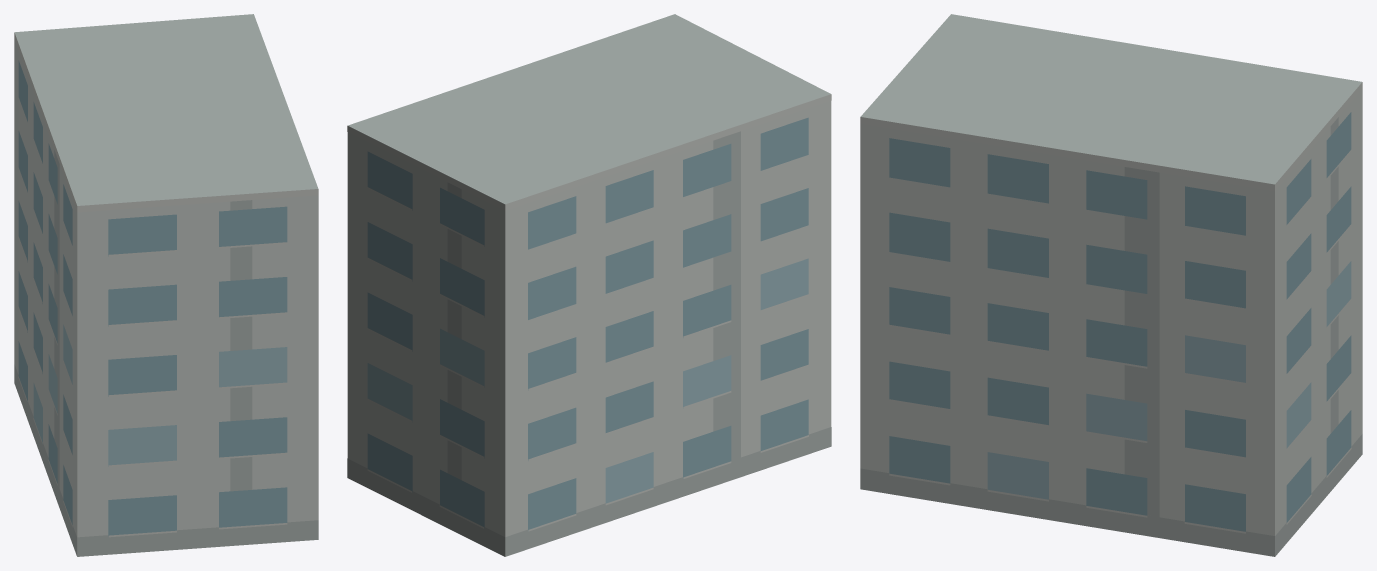
The model's file is survey-upis-32854301.glb.
3 renders of one model, left to right at view 1: azimuth 30°, elevation 25°; view 2: azimuth 150°, elevation 25°; view 3: azimuth 270°, elevation 25°, orthographic. The views are drawn at different scales.
Parts seen in each view (by area): view 1: survey-upis-32854301.tmp; view 2: survey-upis-32854301.tmp; view 3: survey-upis-32854301.tmp.
Boxes of the visible parts, x1=… form: survey-upis-32854301.tmp: x1=14, y1=14, x2=318, y2=556; survey-upis-32854301.tmp: x1=347, y1=14, x2=831, y2=556; survey-upis-32854301.tmp: x1=860, y1=14, x2=1362, y2=556.
Bounding box in the file's own units: 12.92 × 13.15 × 16.08.
